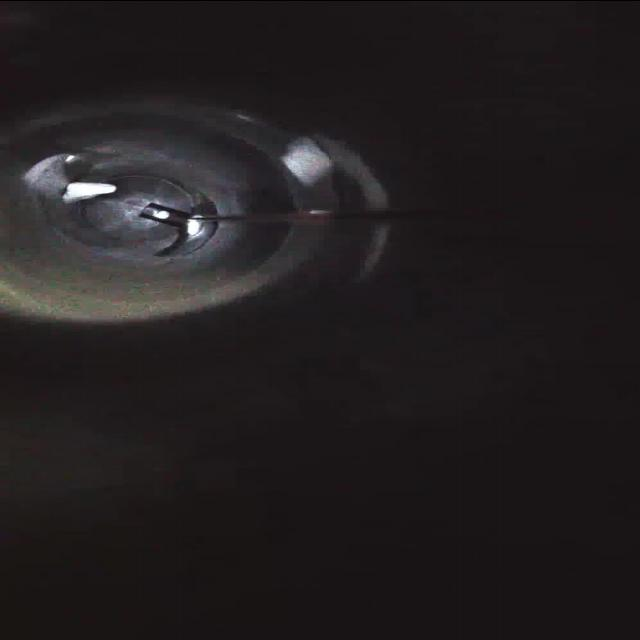impurity: (52, 177, 121, 207)
